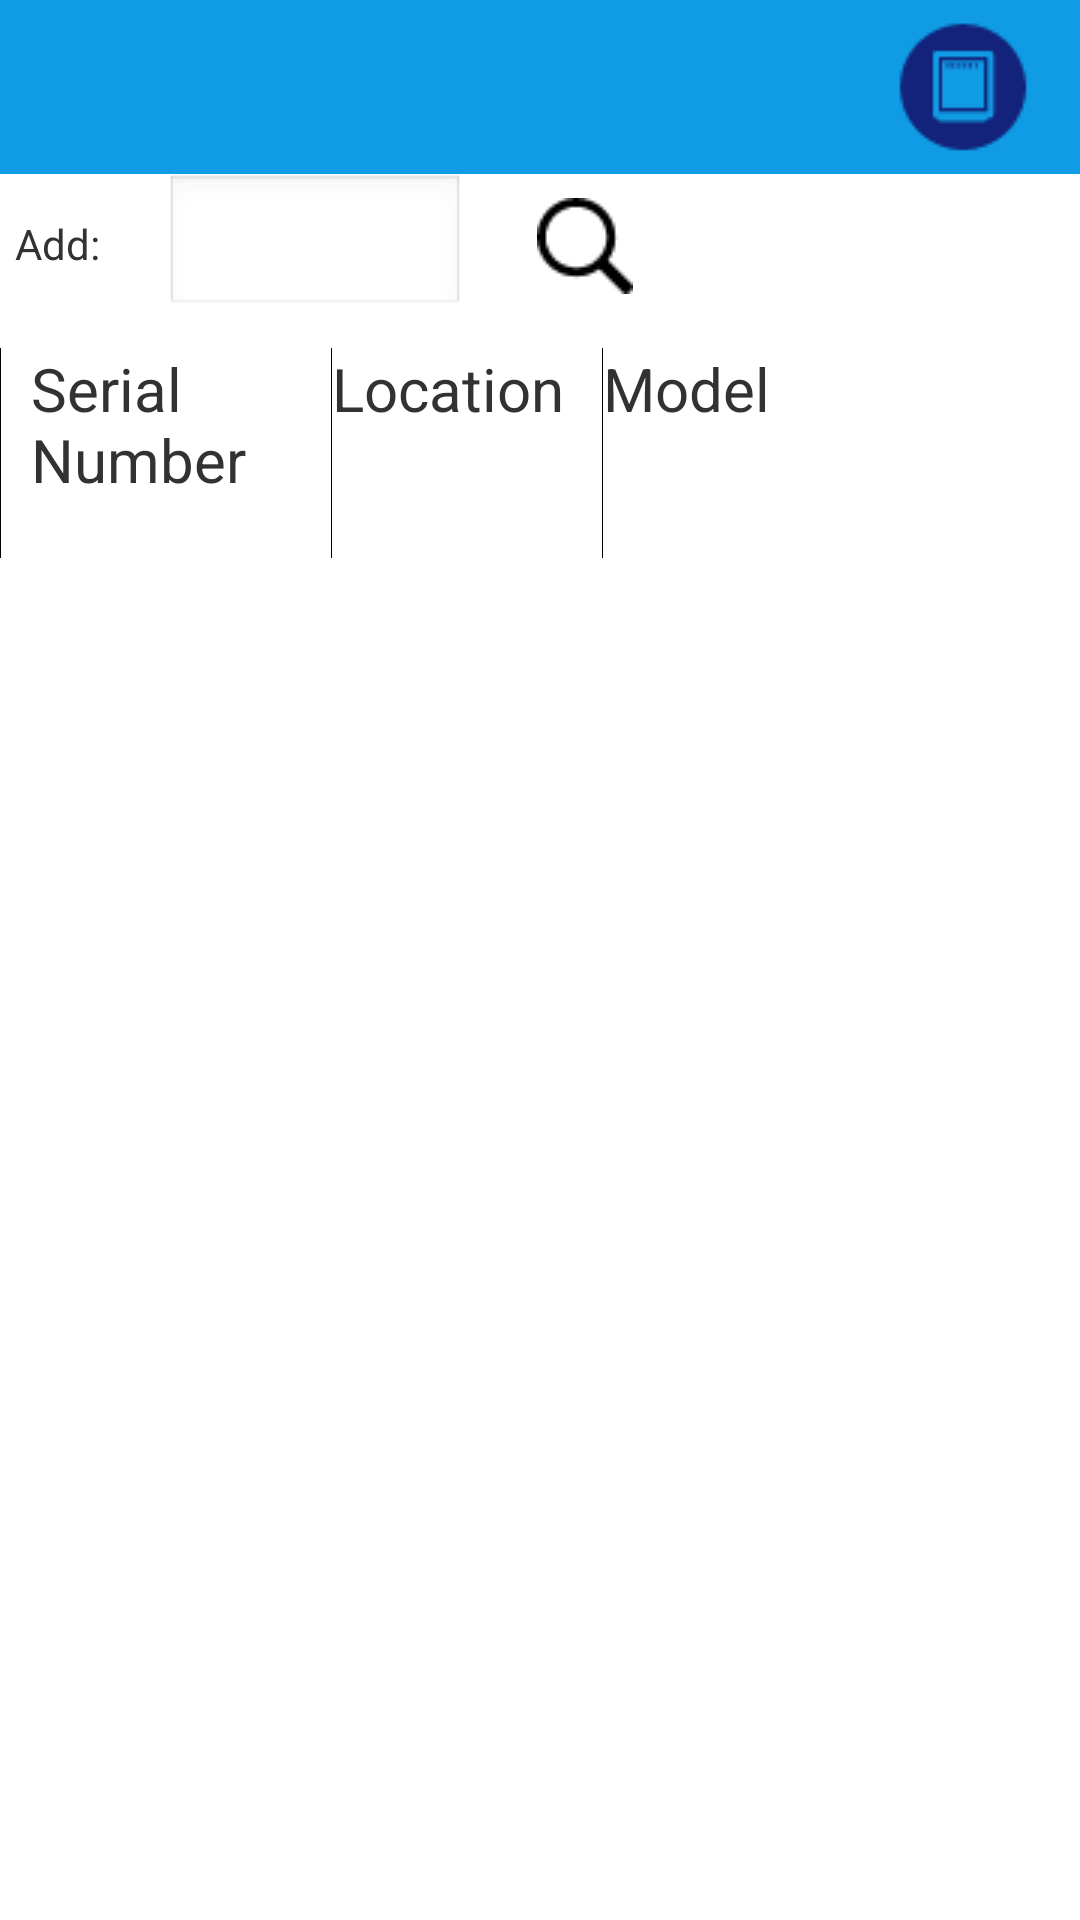

Screen size 1080px x 1920px. Icon name, then its center in pixels as [x,y]:
search: [585,246]
